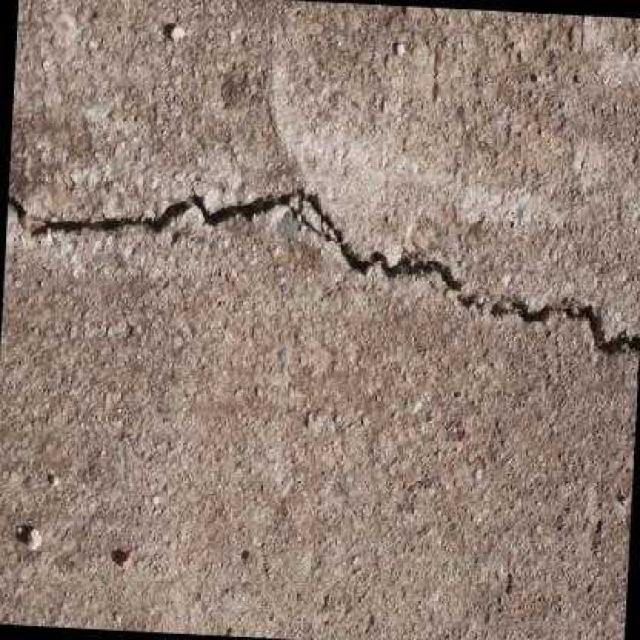D00: (6, 188, 640, 349)
